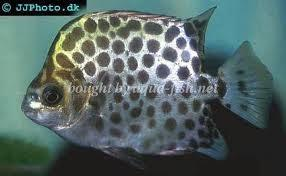Scat Fish: (21, 4, 274, 171)
